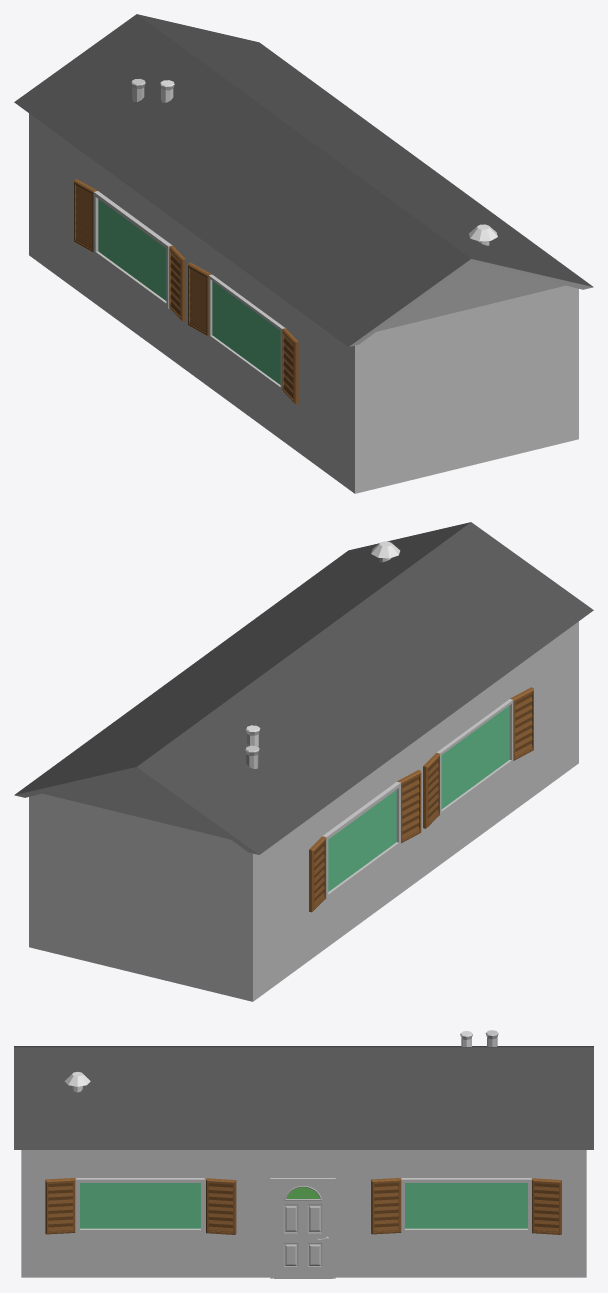
Rendered from Clubhouse1.fbx.
3 views of the same model, one above another, from view 1: azimuth 30°, elevation 25°; view 2: azimuth 150°, elevation 25°; view 3: azimuth 270°, elevation 25° (orthographic). The views are drawn at different scales.
Visible parts, largest first — view 1: Body, Cube.010, Cube.001, Cube.003, Cube.004, Cube.002; view 2: Body, Cube.010, Cube.002, Cube.004, Cube.001, Cube.003; view 3: Body, Cube.010, Cube.005, Cube.008, Cube.009, Cube.006, Cube.007.
Boxes of the visible parts, left/top/right/bottom form: Body: left=29, top=113, right=578, bottom=493; Cube.010: left=14, top=14, right=593, bottom=346; Cube.001: left=188, top=262, right=211, bottom=336; Cube.003: left=74, top=179, right=97, bottom=252; Cube.004: left=169, top=245, right=185, bottom=321; Cube.002: left=282, top=328, right=298, bottom=404; Body: left=29, top=621, right=578, bottom=1001; Cube.010: left=14, top=522, right=593, bottom=854; Cube.002: left=510, top=687, right=533, bottom=760; Cube.004: left=397, top=770, right=421, bottom=843; Cube.001: left=423, top=753, right=439, bottom=828; Cube.003: left=309, top=836, right=325, bottom=912; Body: left=21, top=1150, right=586, bottom=1278; Cube.010: left=14, top=1046, right=593, bottom=1149; Cube.005: left=274, top=1182, right=332, bottom=1278; Cube.008: left=206, top=1178, right=236, bottom=1234; Cube.009: left=45, top=1178, right=75, bottom=1234; Cube.006: left=371, top=1178, right=401, bottom=1234; Cube.007: left=532, top=1178, right=561, bottom=1234.
Size of what is drawn, in the model's own units: 1359 by 576 by 472.
